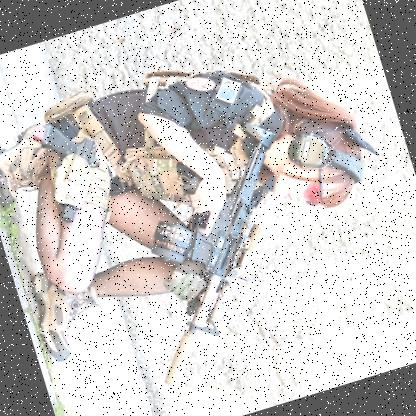rifle: (84, 112, 345, 399), (20, 104, 122, 224)
